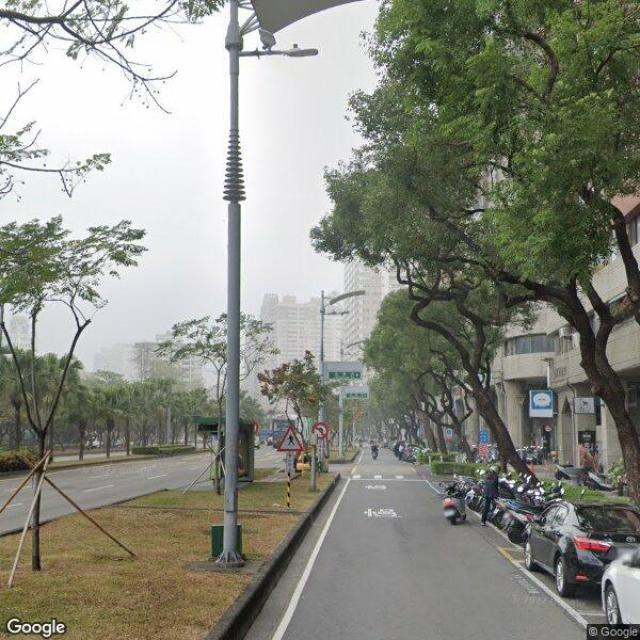Legalparking: (478, 460, 640, 632)
illegalparking: (441, 479, 465, 524)
